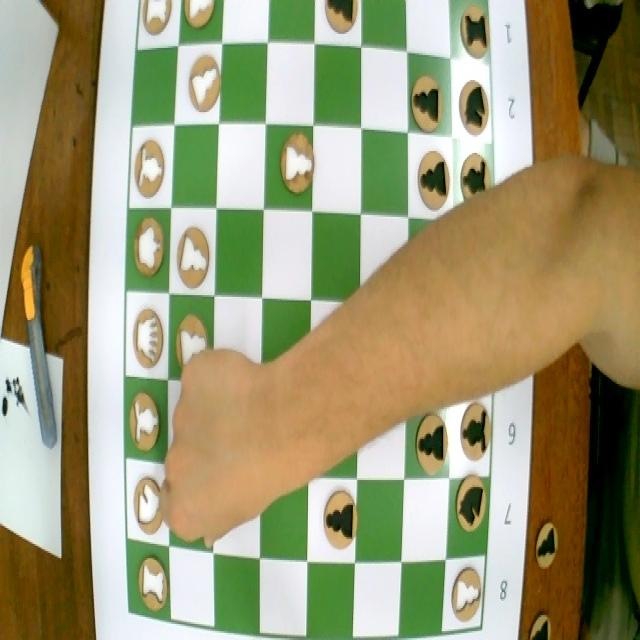chess-pieces: (310, 478, 360, 556), (456, 394, 502, 476), (278, 124, 318, 208), (174, 216, 213, 295), (172, 222, 215, 293), (449, 467, 488, 545), (130, 466, 168, 546), (126, 301, 164, 380), (411, 409, 454, 478), (130, 545, 169, 621), (412, 149, 453, 218), (406, 68, 444, 140), (128, 389, 167, 456), (183, 56, 224, 118), (130, 219, 168, 284), (173, 307, 208, 374), (446, 563, 482, 626), (458, 150, 495, 210), (456, 1, 490, 66), (134, 139, 166, 206), (460, 79, 492, 143), (319, 0, 361, 41), (143, 0, 175, 46), (180, 0, 220, 36)
